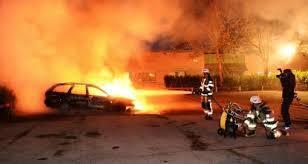fire: (92, 72, 163, 117)
